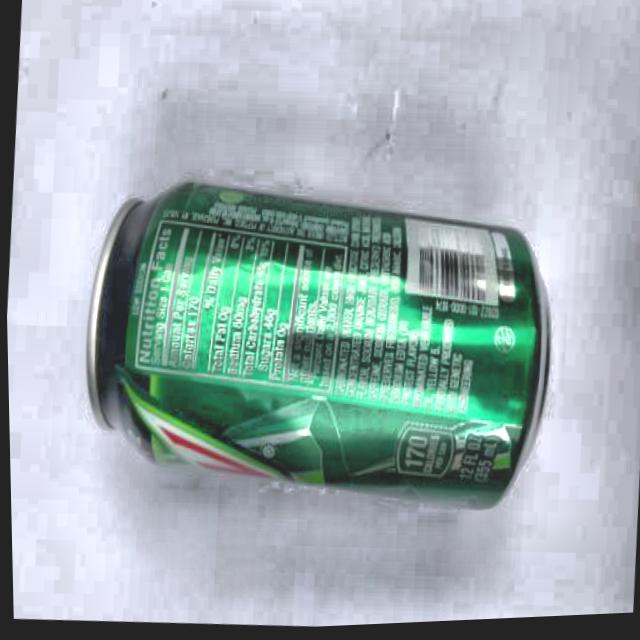Cans: (40, 137, 573, 551)
